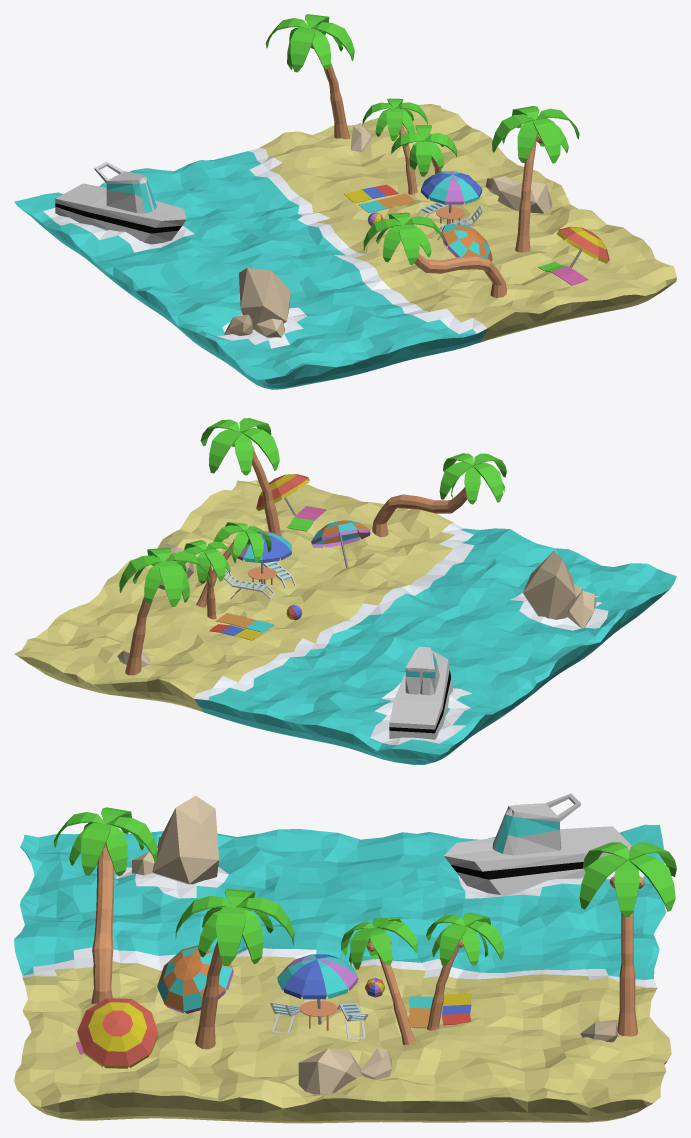
Rendered from beachBackground.glb.
3 views of the same model, one above another, from view 1: azimuth 30°, elevation 25°; view 2: azimuth 150°, elevation 25°; view 3: azimuth 270°, elevation 25° (orthographic). The views are drawn at different scales.
Visible parts, largest first — view 1: SEA, SAND, FOAM, YACHT, ROCKS, PALM1, PALM5, PALM4, PALM2, PALM3, UMBRELLA1, UMBRELLA3 (+2 smaller); view 2: SEA, SAND, FOAM, YACHT, PALM5, ROCKS, PALM4, PALM1, PALM2, PALM3, UMBRELLA3, UMBRELLA1 (+3 smaller); view 3: SAND, SEA, YACHT, ROCKS, PALM4, PALM5, FOAM, PALM1, UMBRELLA2, PALM2, PALM3, UMBRELLA3 (+5 smaller).
Boxes of the visible parts, x1=… form: SEA: x1=14, y1=151, x2=487, y2=389; SAND: x1=260, y1=104, x2=676, y2=342; FOAM: x1=43, y1=147, x2=486, y2=348; YACHT: x1=55, y1=161, x2=186, y2=244; ROCKS: x1=224, y1=123, x2=552, y2=337; PALM1: x1=492, y1=106, x2=579, y2=252; PALM5: x1=363, y1=212, x2=506, y2=297; PALM4: x1=265, y1=14, x2=354, y2=139; PALM2: x1=362, y1=98, x2=427, y2=194; PALM3: x1=391, y1=125, x2=456, y2=176; UMBRELLA1: x1=421, y1=171, x2=482, y2=223; UMBRELLA3: x1=441, y1=224, x2=492, y2=269; SEA: x1=194, y1=528, x2=676, y2=764; SAND: x1=14, y1=480, x2=454, y2=712; FOAM: x1=194, y1=523, x2=608, y2=744; YACHT: x1=389, y1=646, x2=452, y2=739; PALM5: x1=372, y1=453, x2=506, y2=537; ROCKS: x1=117, y1=543, x2=596, y2=665; PALM4: x1=119, y1=547, x2=210, y2=675; PALM1: x1=200, y1=418, x2=281, y2=536; PALM2: x1=181, y1=540, x2=236, y2=619; PALM3: x1=196, y1=522, x2=271, y2=607; UMBRELLA3: x1=311, y1=520, x2=370, y2=568; UMBRELLA1: x1=237, y1=531, x2=291, y2=584; SAND: x1=14, y1=956, x2=671, y2=1123; SEA: x1=14, y1=824, x2=665, y2=979; YACHT: x1=444, y1=793, x2=631, y2=895; ROCKS: x1=132, y1=795, x2=617, y2=1094; PALM4: x1=579, y1=842, x2=676, y2=1036; PALM5: x1=53, y1=807, x2=157, y2=1003; FOAM: x1=22, y1=848, x2=657, y2=987; PALM1: x1=175, y1=889, x2=294, y2=1049; UMBRELLA2: x1=77, y1=998, x2=158, y2=1068; PALM2: x1=426, y1=912, x2=504, y2=1030; PALM3: x1=341, y1=917, x2=417, y2=1044; UMBRELLA3: x1=157, y1=945, x2=233, y2=1013.
Bounding box in the file's own units: 125 × 42.74 × 127.
